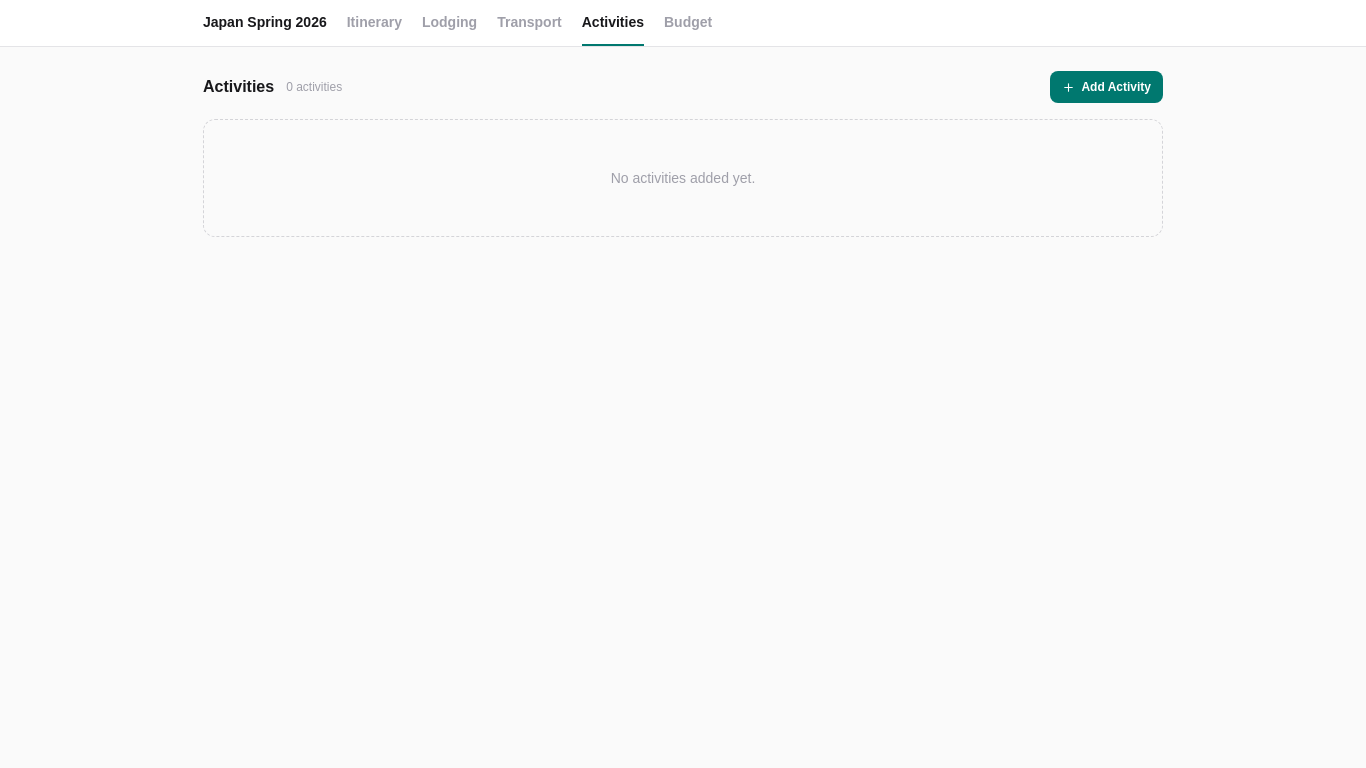
Scenario: Activities page — Add form validation › shows a date-required error when title is filled but date is missing
This screenshot has width=1366, height=768.
Click the button "Add Activity": coordinates (1107, 87) [1050,71,1163,103]
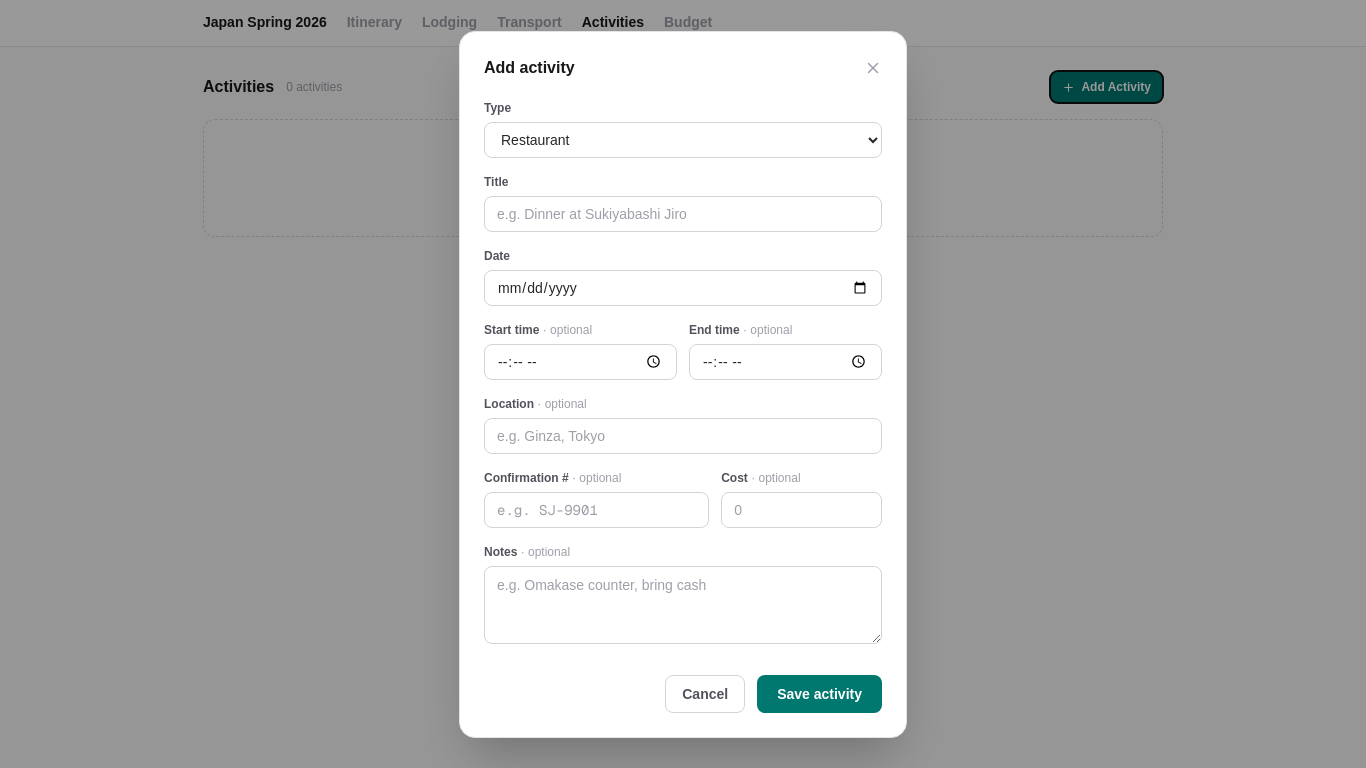
In the field with placeholder "e.g. Dinner at Sukiyabashi Jiro": coordinates (683, 214) [484,196,882,232], type "My Activity"
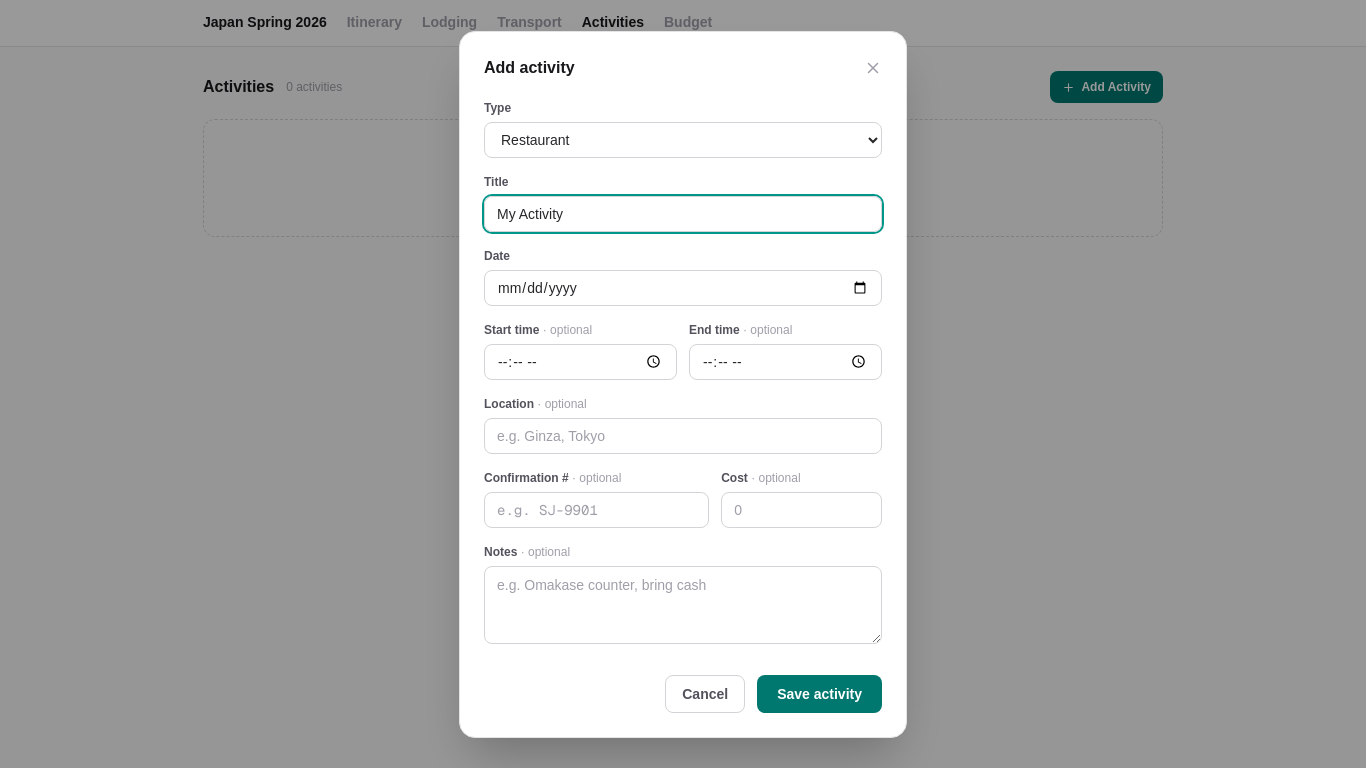
Click the button "Save activity": coordinates (820, 694) [757,674,882,712]
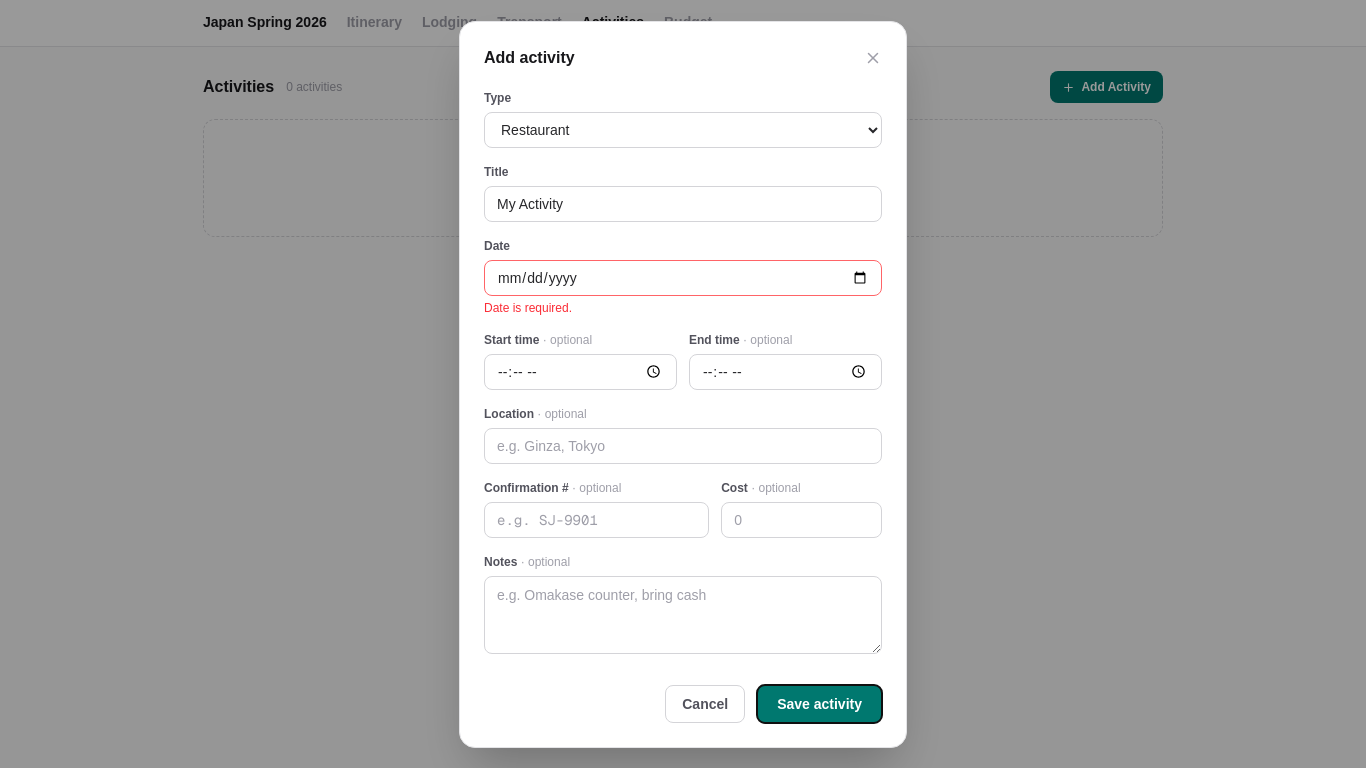
Expected: the text "Date is required." is shown, [484,300,572,314]
